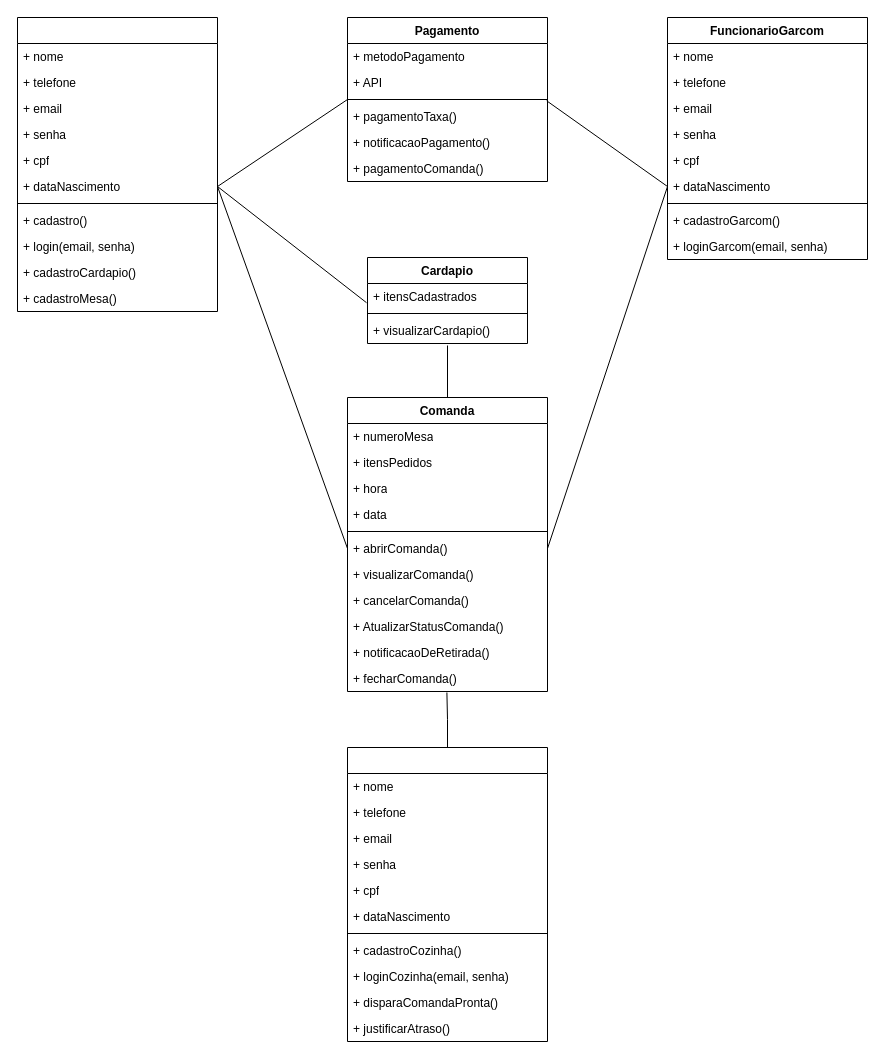
This 885x1062 diagram has some shape labels left out. The box of each missing label's shape, as (x1, y1, x2, y2) in pixels:
Administrador: (16, 16, 218, 312)
FuncionarioCozinha: (346, 746, 548, 1042)
